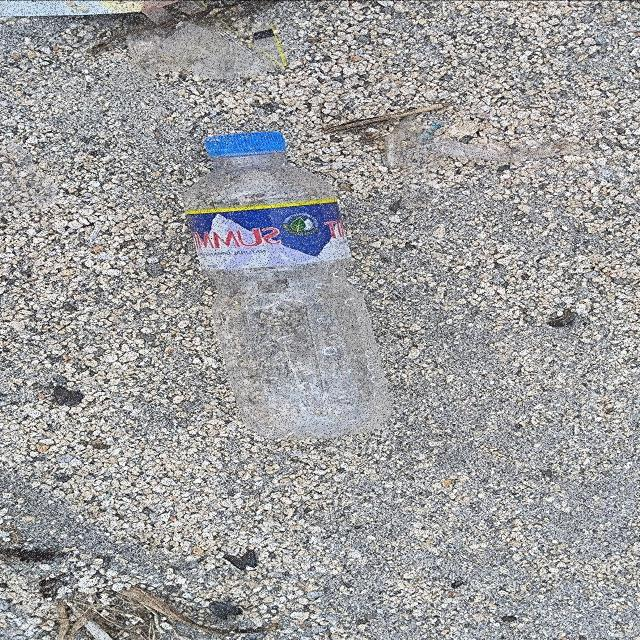plastic_waste: (183, 131, 395, 441)
